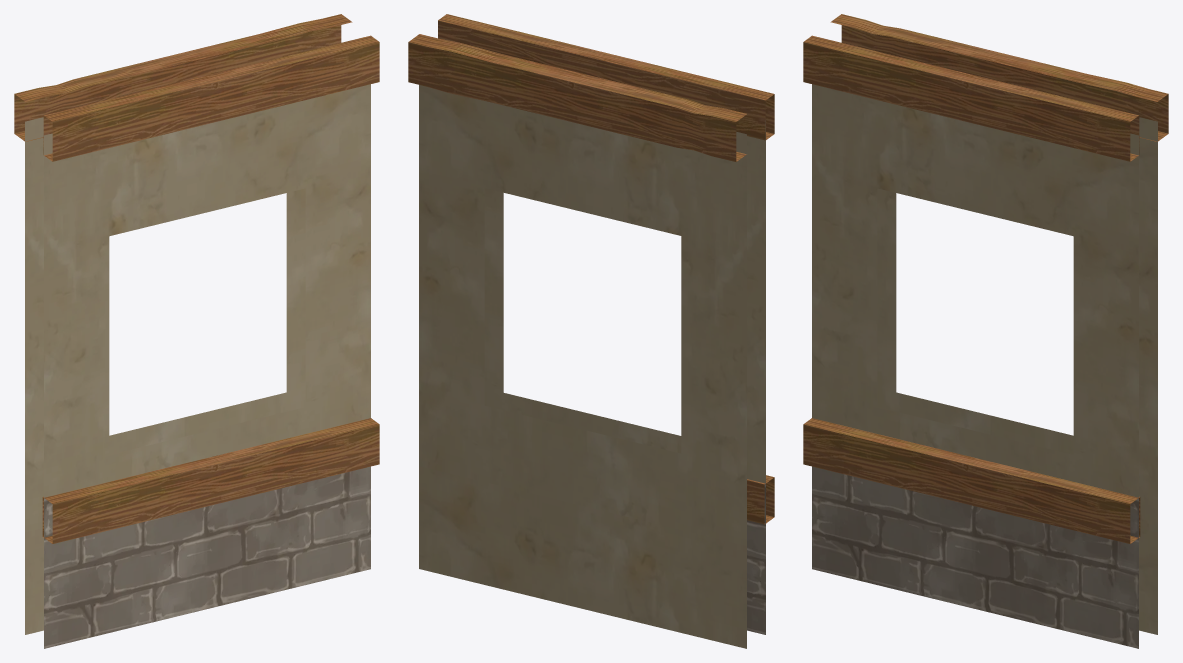
Rendered from wall_plaster_window_wide_flat.glb.
3 views of the same model, side by side, from view 1: azimuth 30°, elevation 25°; view 2: azimuth 150°, elevation 25°; view 3: azimuth 330°, elevation 25° (orthographic).
Bounding box in the file's own units: 2 × 3.12 × 0.4066.
Materials: 3 (3 with a texture image).
